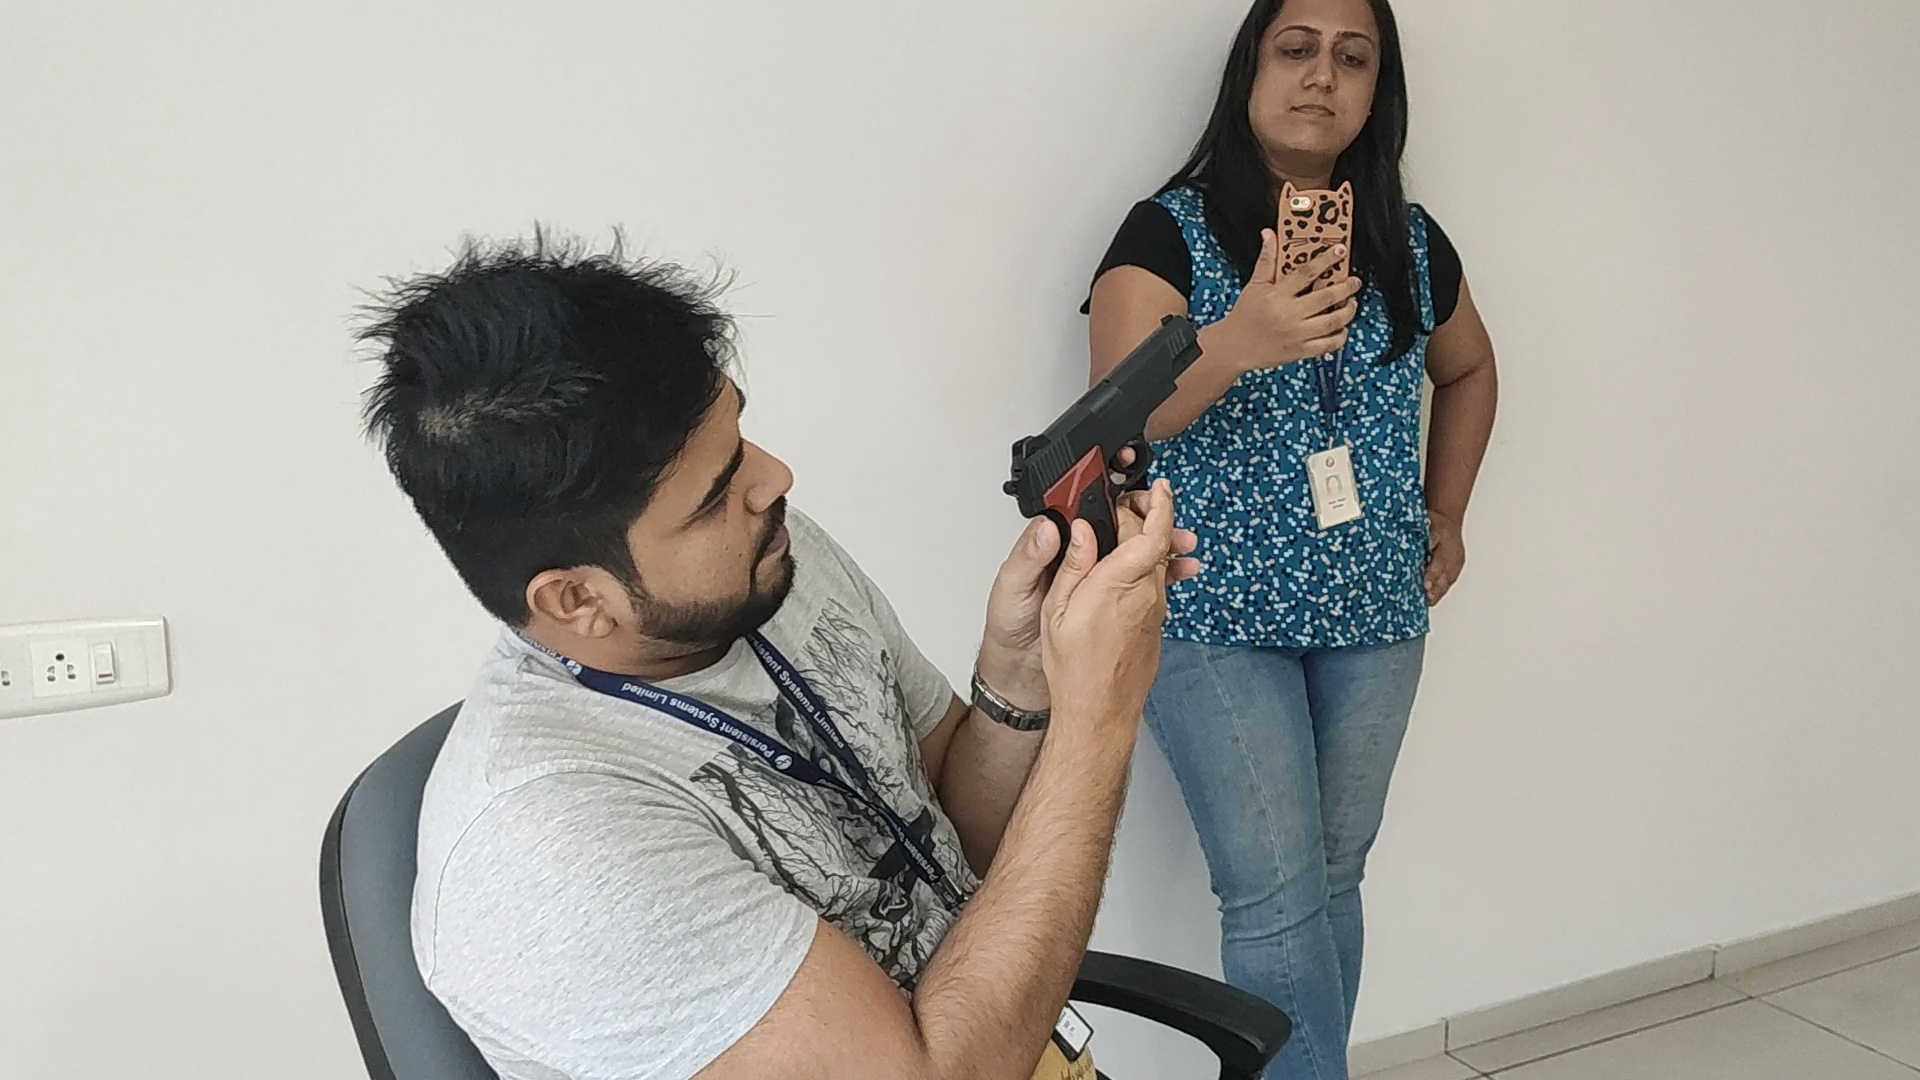gun: (1002, 315, 1203, 477)
